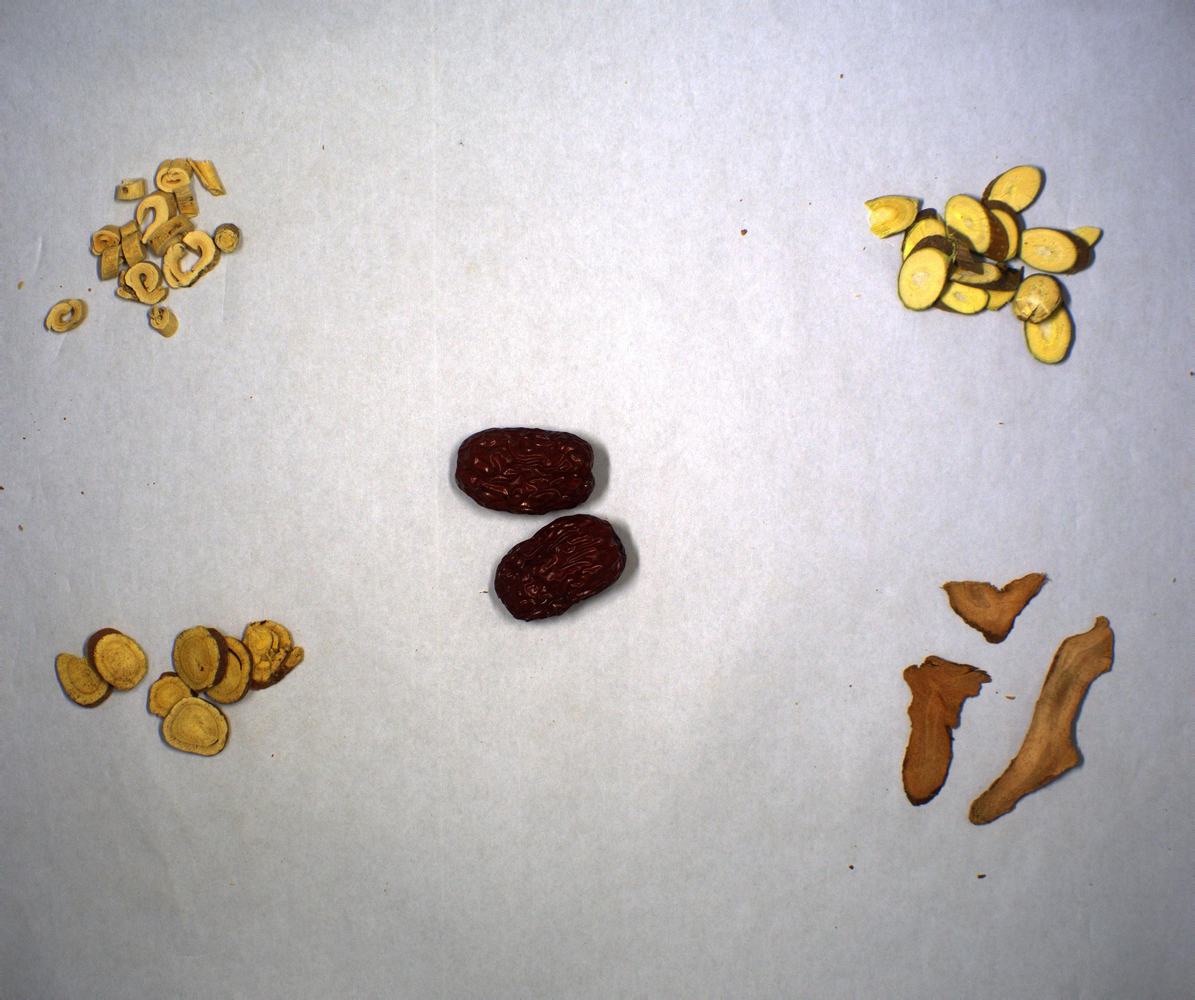baixianpi: (42, 158, 245, 338)
dazao: (442, 424, 628, 626)
gancaopian: (50, 624, 305, 759)
gaoliangjiang: (899, 573, 1114, 829)
sangzhi: (863, 159, 1103, 370)
